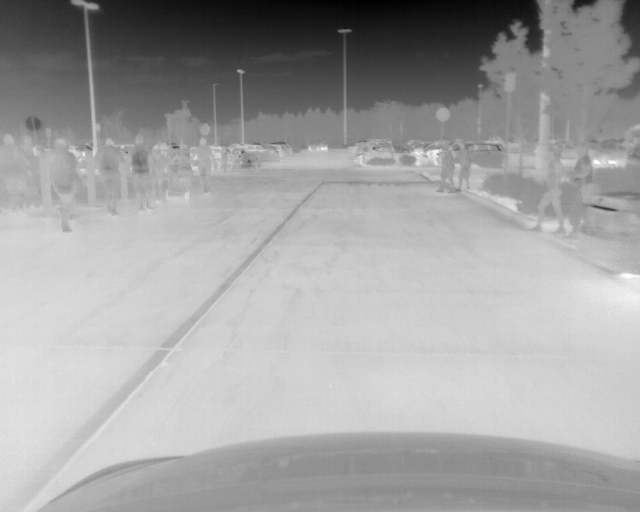car: (449, 140, 507, 169), (363, 146, 423, 166), (268, 144, 279, 161), (241, 144, 266, 151), (309, 142, 327, 151), (276, 144, 285, 158)
people: (51, 139, 83, 233), (533, 151, 566, 237), (92, 138, 125, 216), (570, 144, 594, 239), (128, 135, 156, 214), (18, 135, 44, 211), (1, 133, 25, 213), (193, 139, 215, 196), (152, 146, 169, 201), (436, 145, 455, 193), (457, 140, 471, 193), (178, 143, 191, 192)
